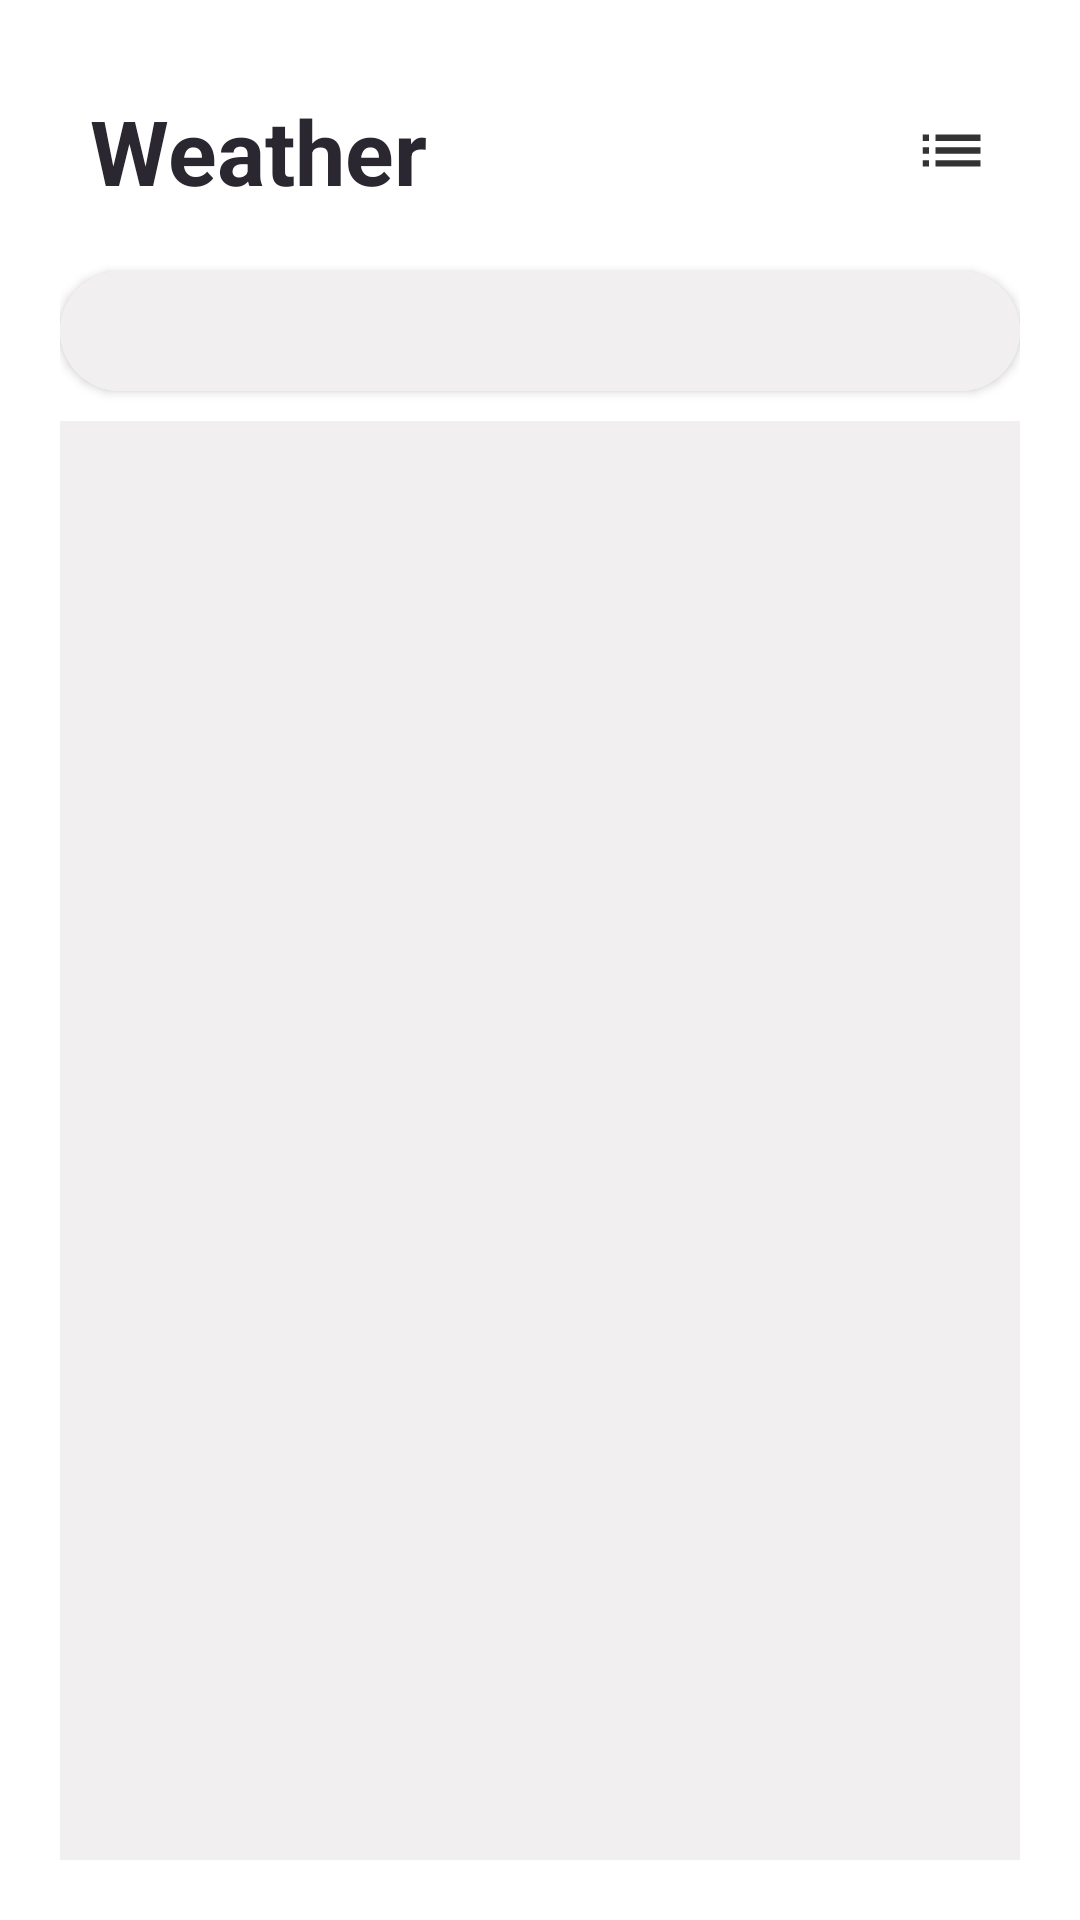

Icons on this 1080 x 1920 Android screen, each with the point to tap as (x,y):
list: (951,150)
